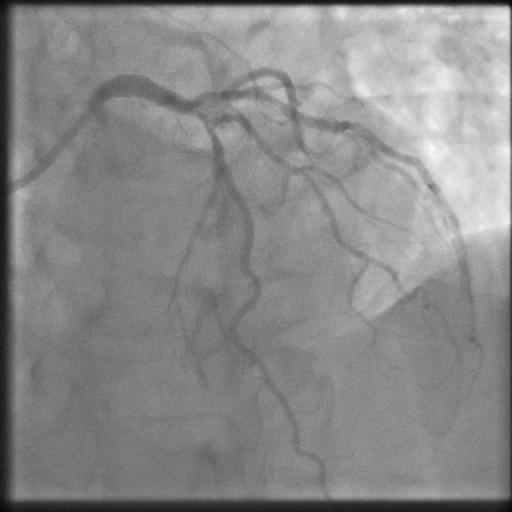Stenosis: (190, 104, 217, 140)
